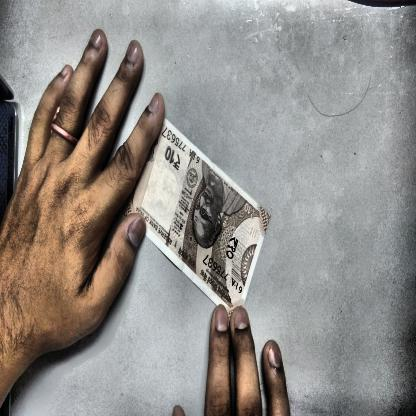Rs10: (161, 141, 186, 176)
